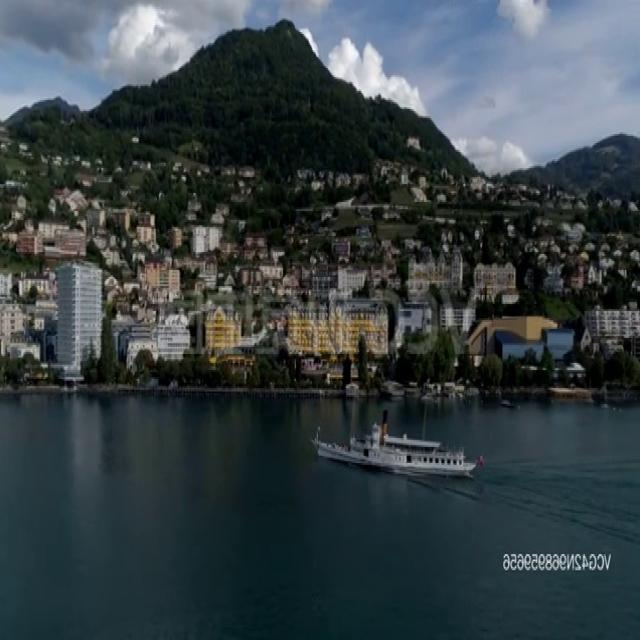passenger ship: (312, 416, 477, 482)
